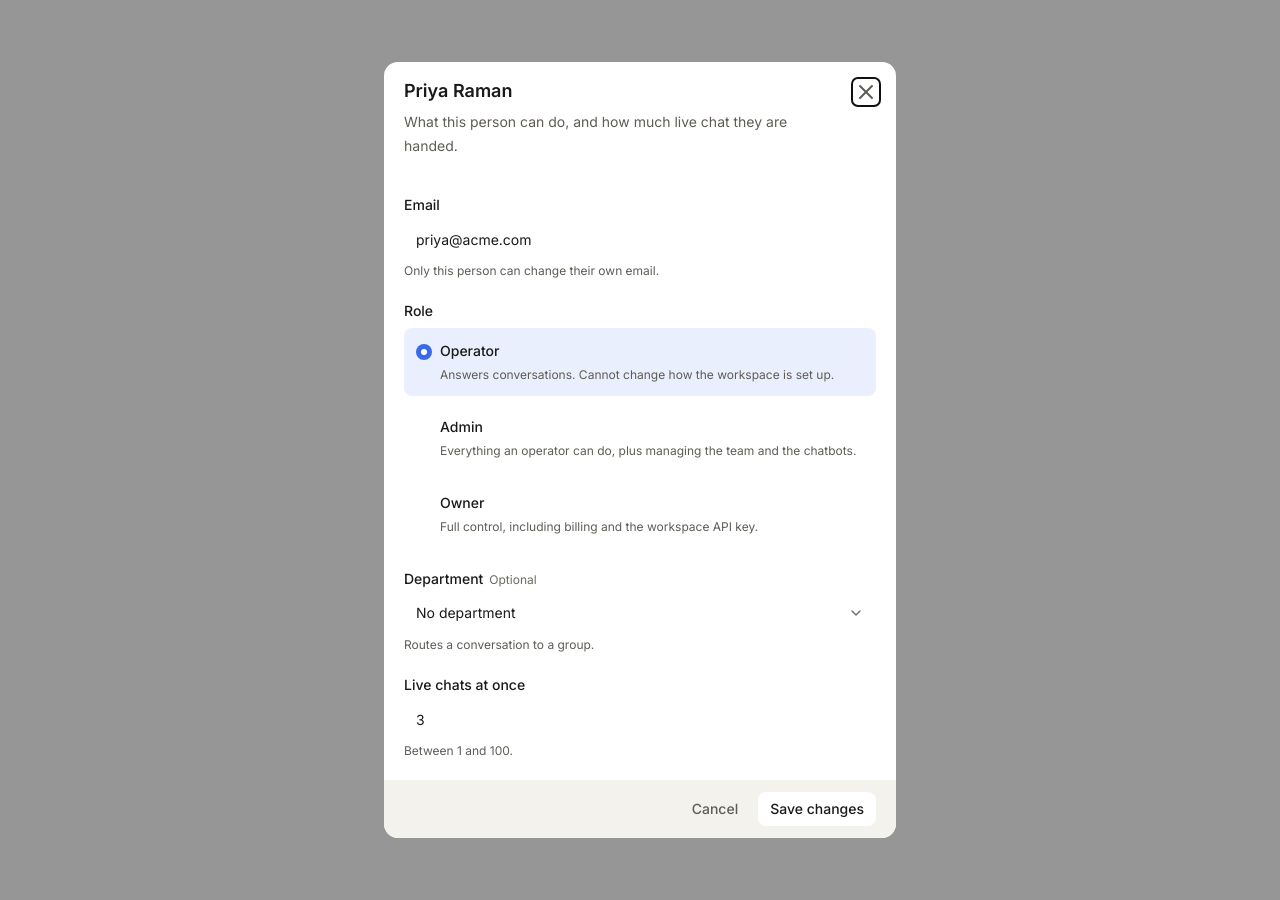
MemberDialog › refuses a capacity that would make them unroutable, at the field
Step 1. Clear the field labelled "Live chats at once" → (640, 719), box 404,702 -> 876,736
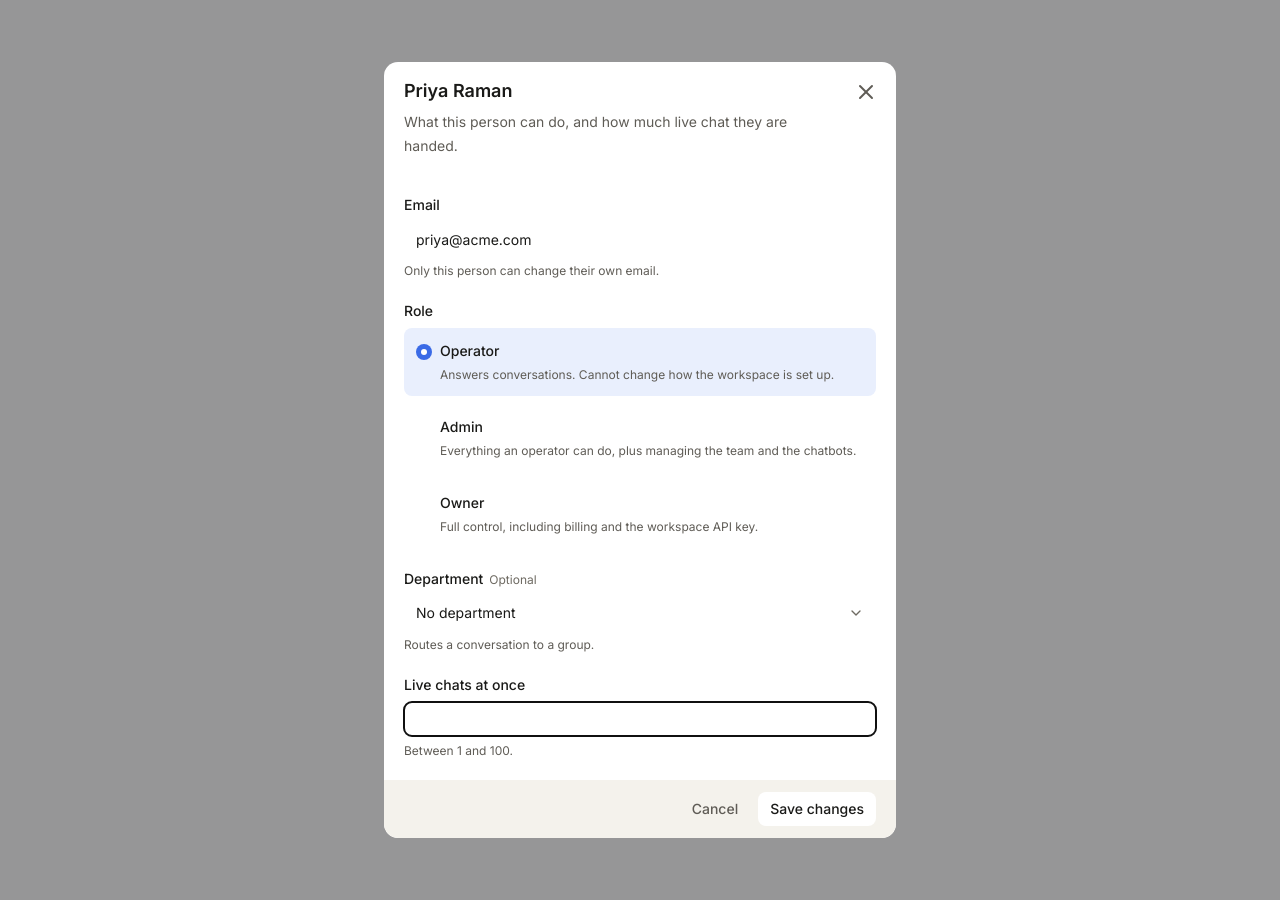
Step 2. Click the button "Save changes" → (817, 809), box 758,792 -> 876,826
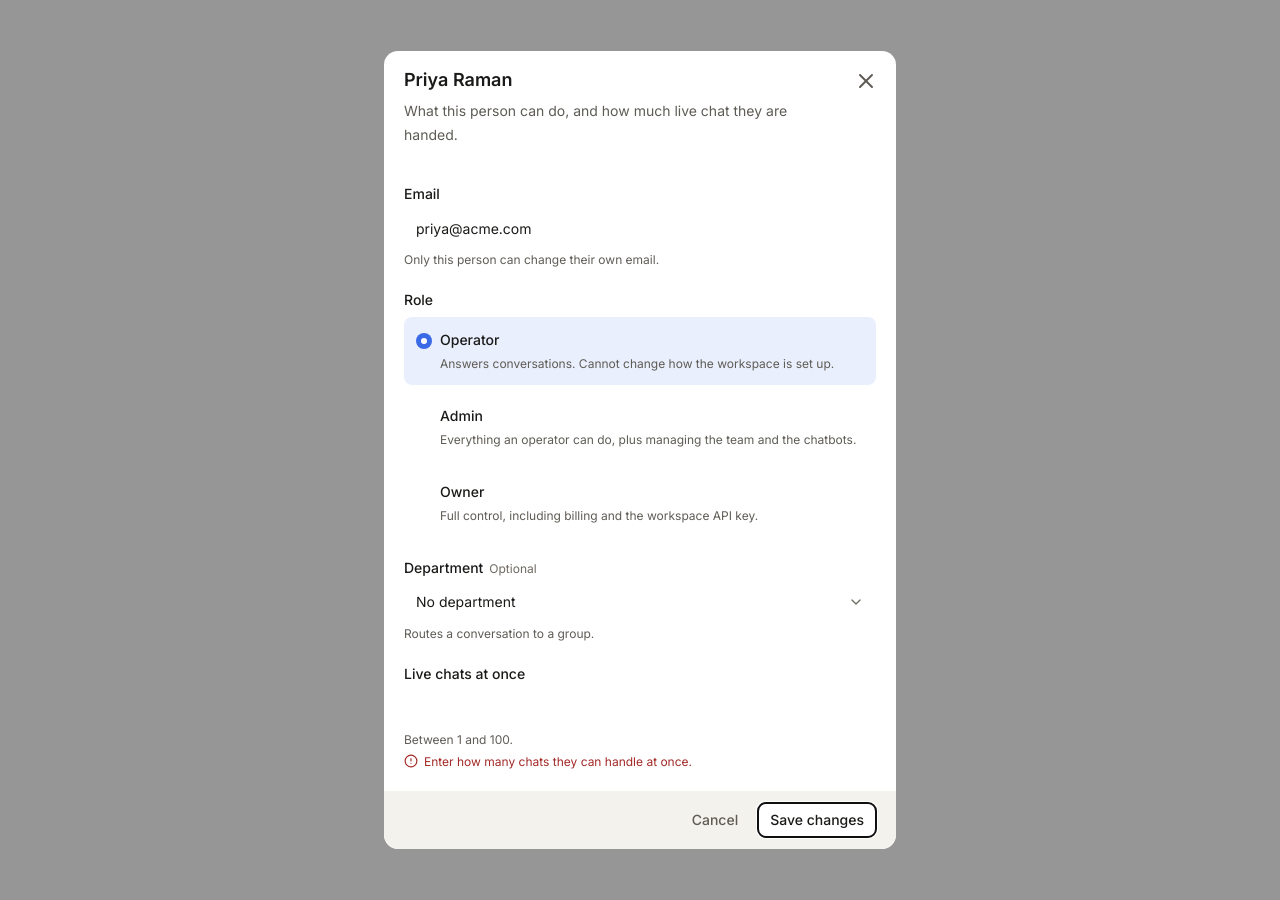
expect the text "Enter how many chats they can handle at once." is shown: met, box 424,753 -> 692,771
